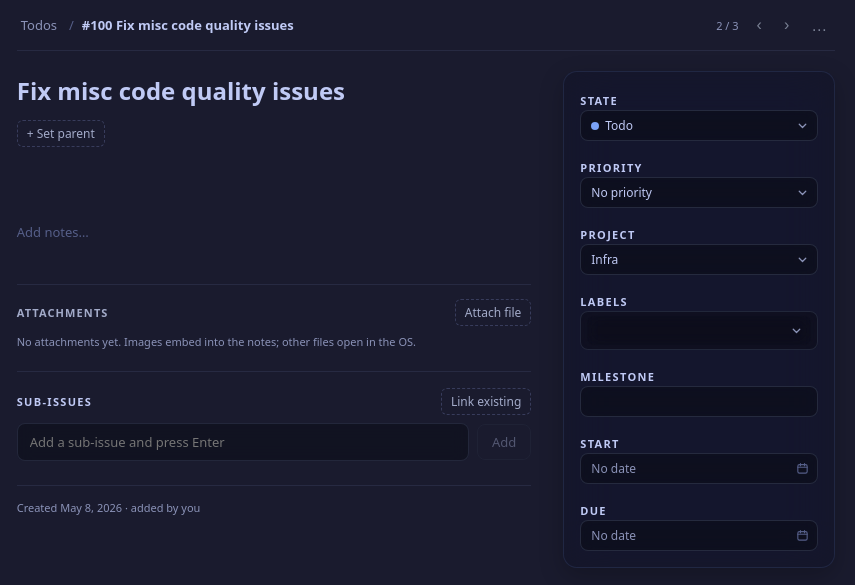
Test: TodoDetailPage overflow menu copy actions › shows "Copy failed" instead of "Copied ✓" and logs it when the clipboard write for "Copy agent prompt" rejects
The image size is (855, 585).
expect the text box named "Title" is shown: met, box [17,71,531,110]
Click the button named "More actions" at (819, 26), box [803,16,835,36]
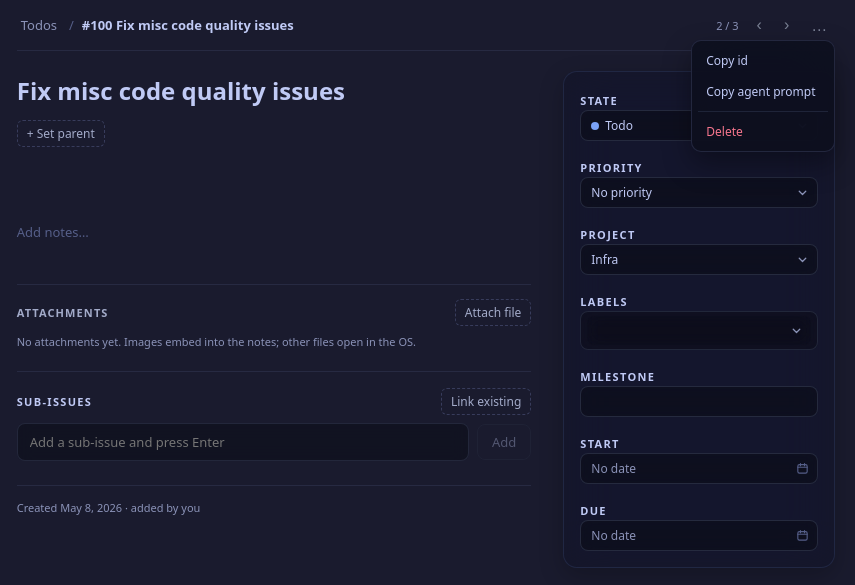
Click the menu item "Copy agent prompt" at (763, 92), box [696,76,830,107]
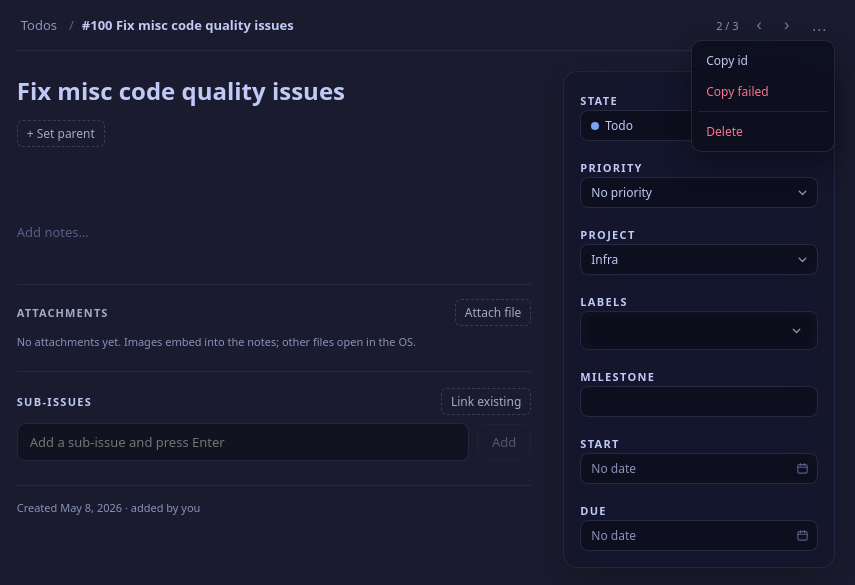
expect the menu item "Copy failed" is shown: met, box [696,76,830,107]
